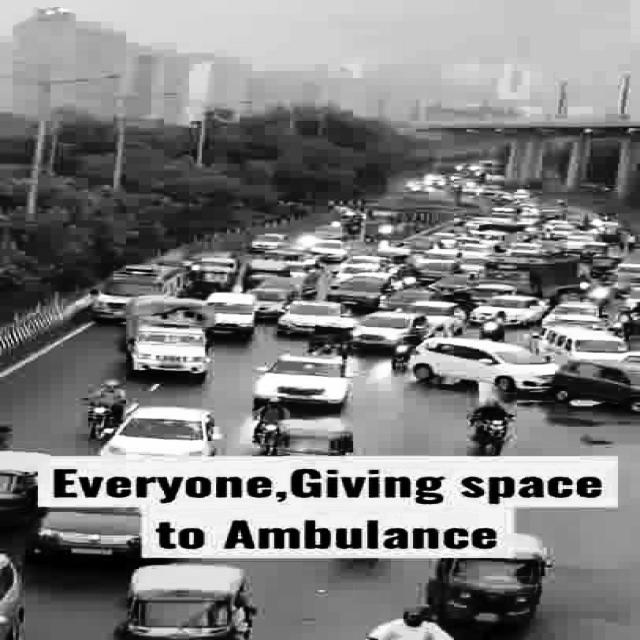Ambulance: (90, 264, 188, 321)
